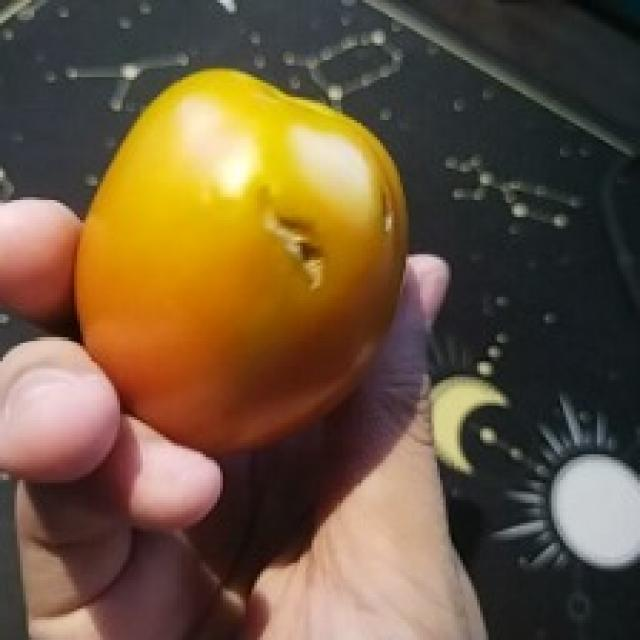Rotten Tomato: (58, 54, 412, 500)
